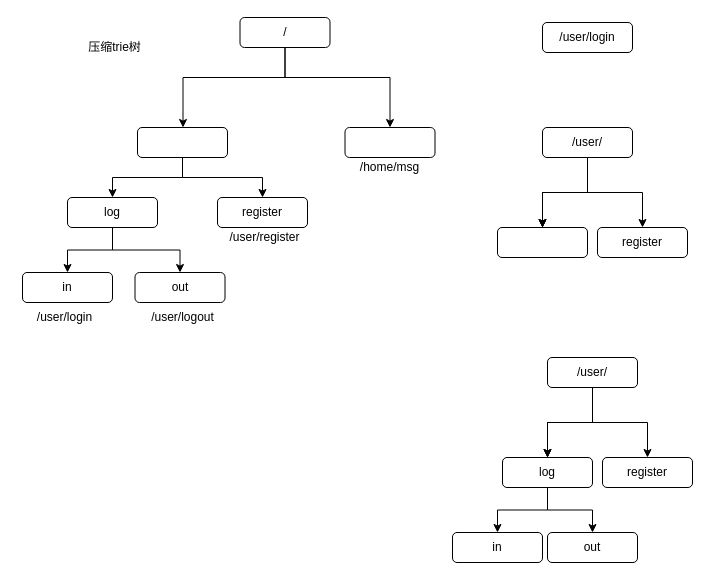
Image size: 710x580. Some labels were removed from this diagram. The box of each missing label's shape, as (x1, y1, x2, y2) in pixels:
home/msg: (344, 126, 435, 158)
login: (496, 226, 588, 258)
user/: (136, 126, 228, 158)
